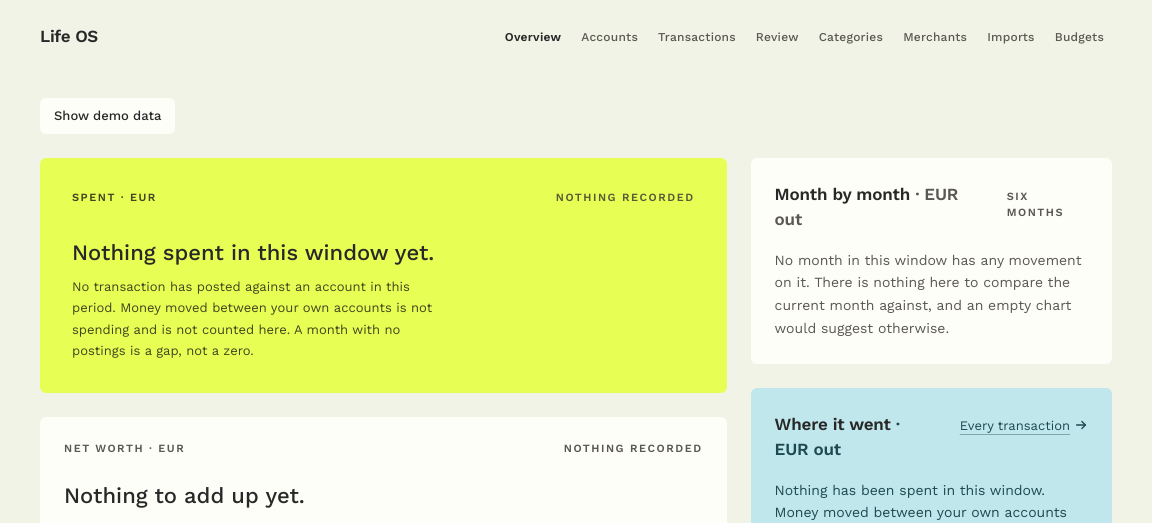
Test case: overview — the demo is explicit or it does not happen › can be put back into demo from the page, off the empty state
The image size is (1152, 523).
Expected: the text "Nothing to add up yet." is shown, [64, 483, 305, 508]
OFF, the control is a plain quiet button that says what it does.
What coordinates should you click on to do the following:
click the switch labelled "Show demo data"
I would click on:
 (108, 116)
Its box is [40, 98, 175, 134].
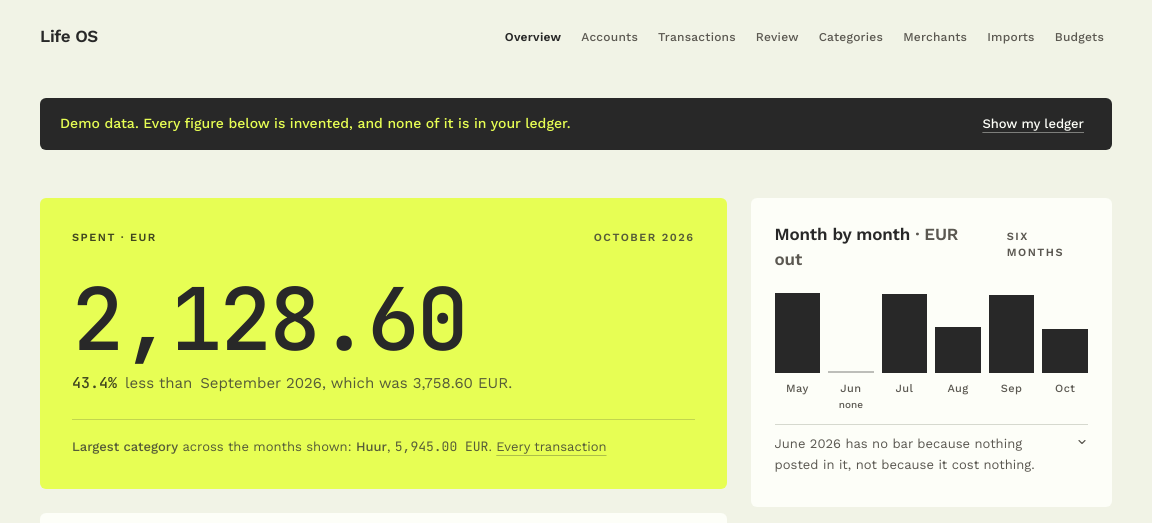
Expected: the text "Every figure below is invented" is shown, [60, 115, 571, 131]
